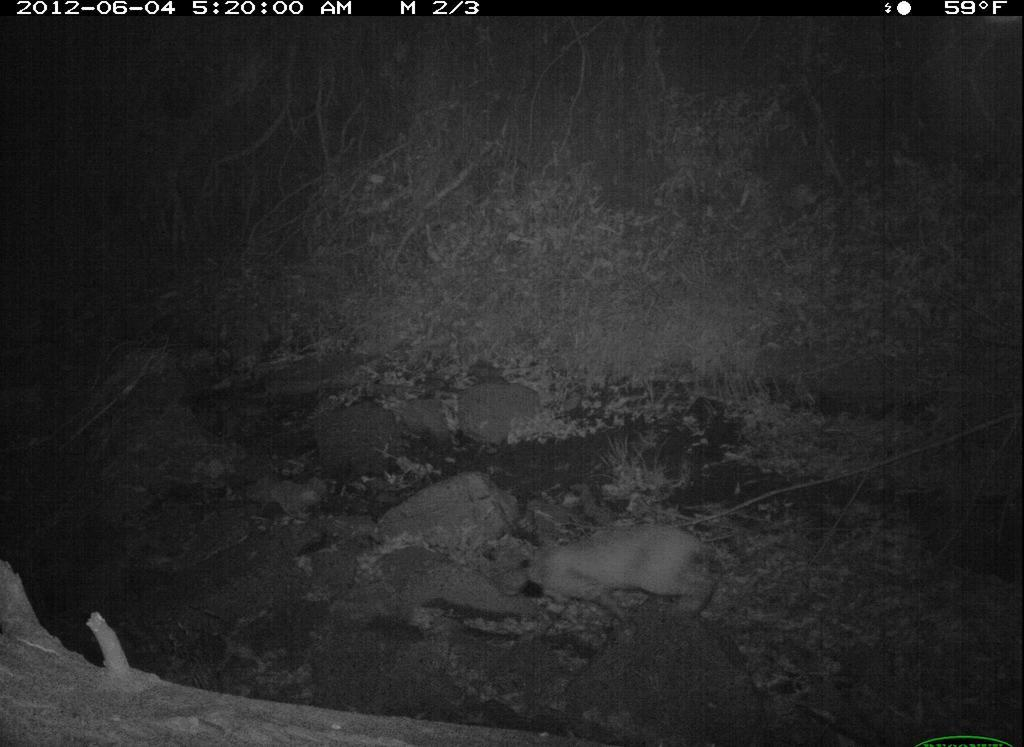bobcat: (487, 507, 745, 661)
